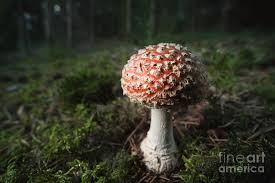Amanita muscaria: (117, 40, 208, 166)
